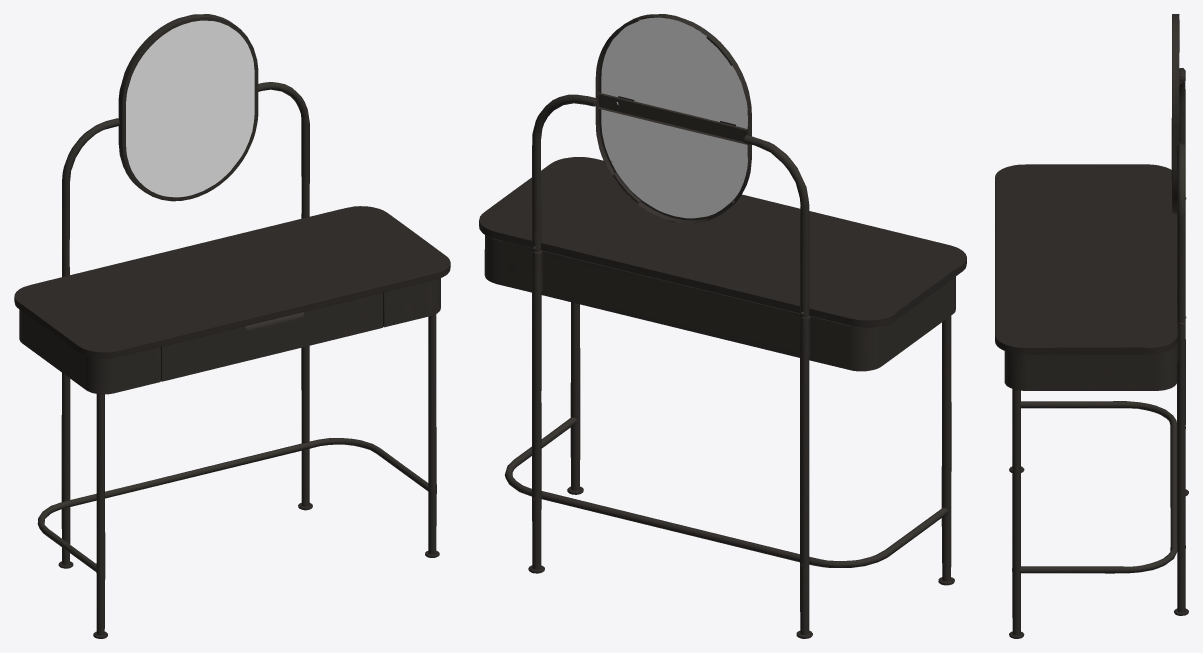
Rendered from grafjallet_toaletka_30570225.glb.
3 renders of one model, left to right at view 1: azimuth 30°, elevation 25°; view 2: azimuth 150°, elevation 25°; view 3: azimuth 270°, elevation 25°, orthographic. The views are drawn at different scales.
Visible parts, largest first — view 1: grafjallet_toaletka_30570225; view 2: grafjallet_toaletka_30570225; view 3: grafjallet_toaletka_30570225.
Part boxes in pixels (bbox=[...]): grafjallet_toaletka_30570225: bbox=[14, 14, 450, 638]; grafjallet_toaletka_30570225: bbox=[479, 14, 966, 638]; grafjallet_toaletka_30570225: bbox=[995, 14, 1188, 638].
Bounding box in the file's own units: 1 × 1.35 × 0.447.
Materials: 2 (2 with a texture image).
